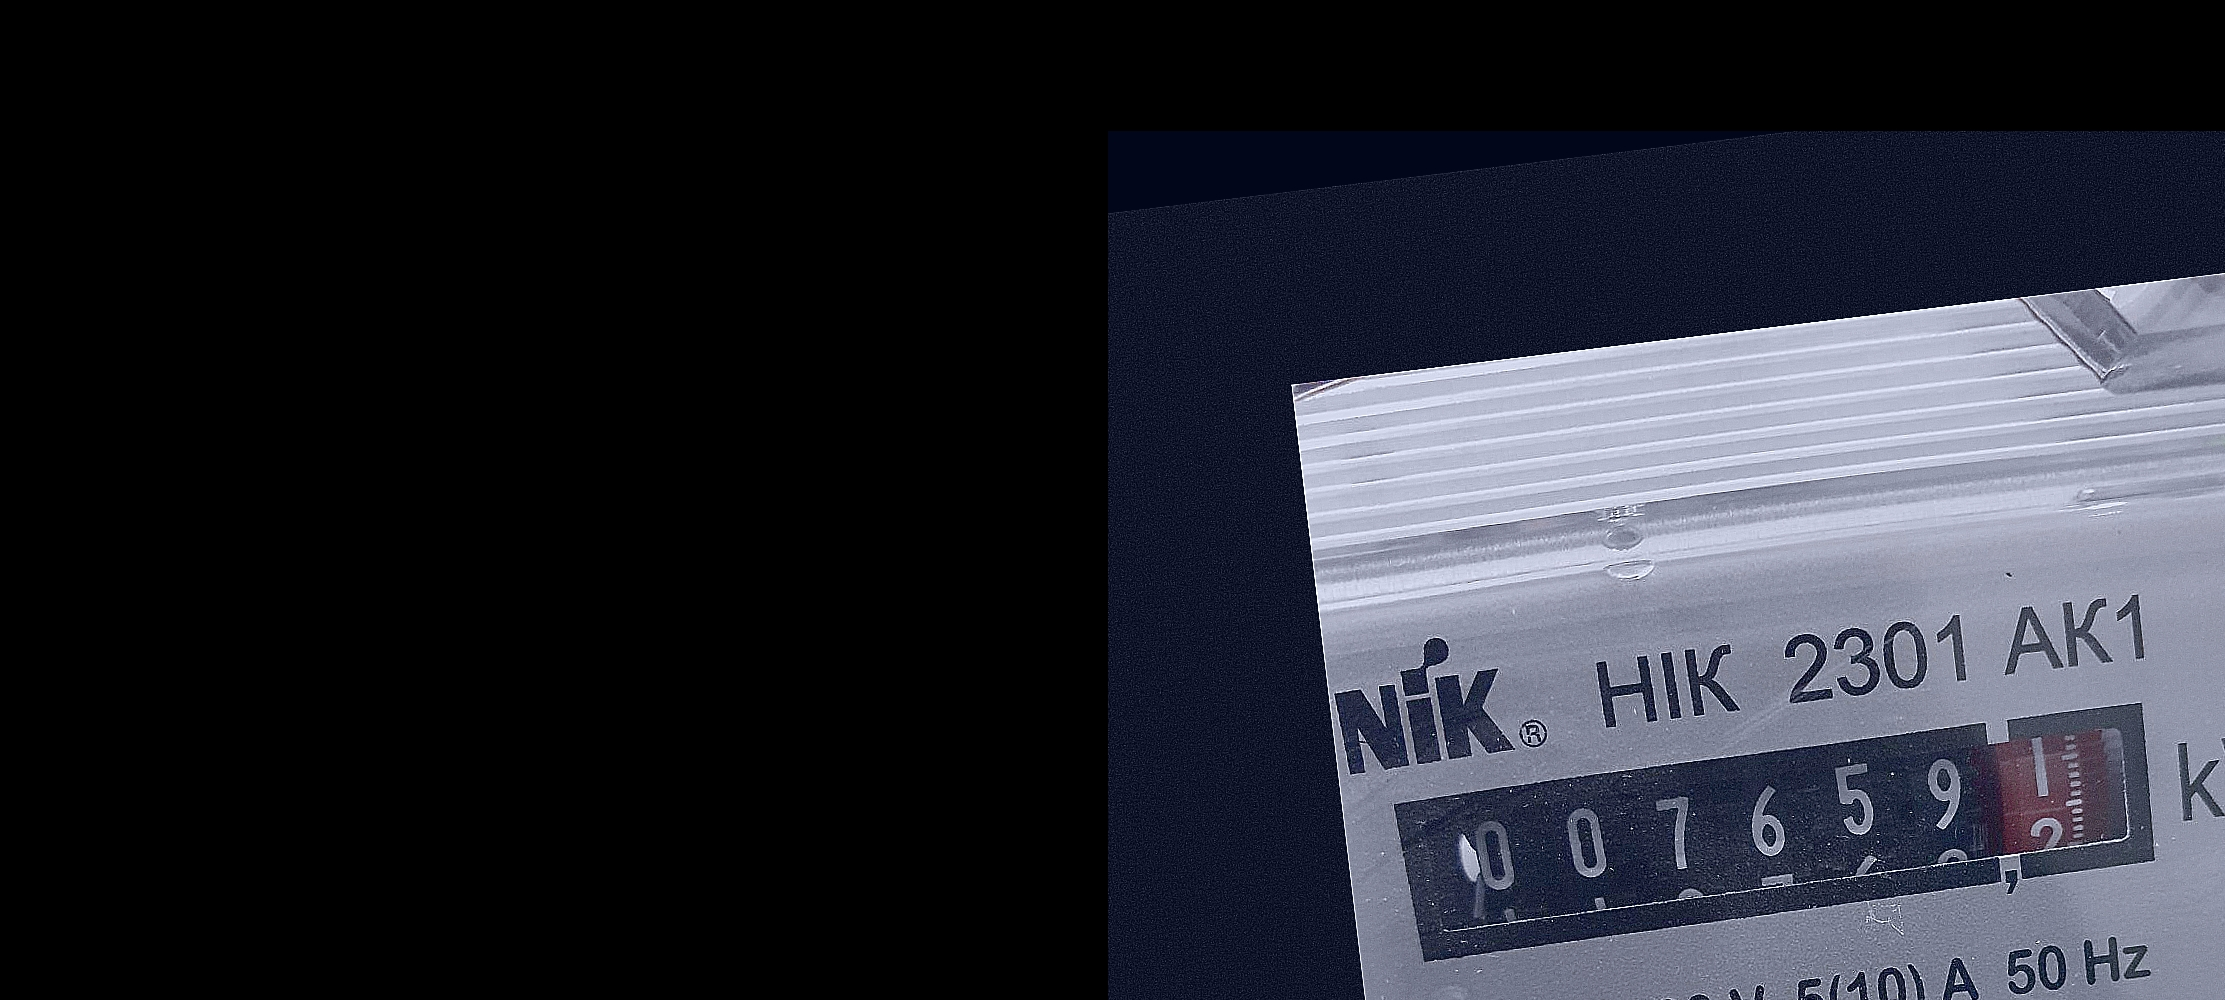0: (1552, 796, 1618, 888), (1464, 809, 1525, 904)
1: (2021, 728, 2063, 807)
5: (1828, 756, 1882, 843)
6: (1735, 776, 1796, 864)
7: (1649, 789, 1701, 878)
9: (1918, 749, 1971, 841)
screen: (1371, 679, 2185, 986)
